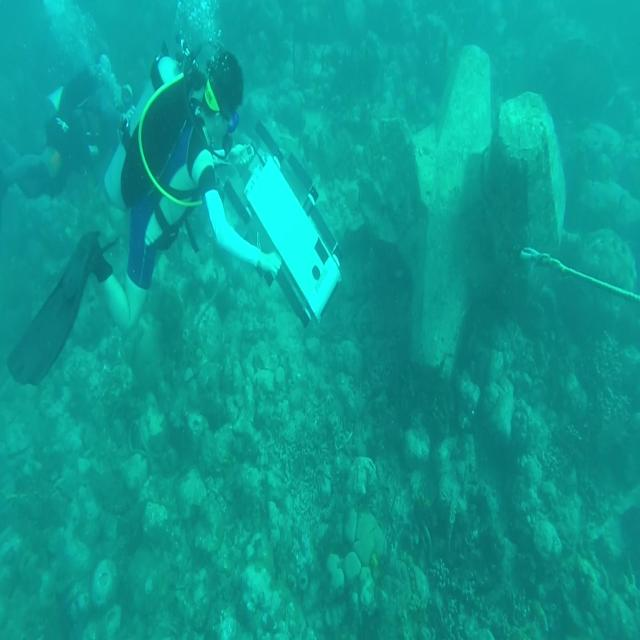human: (7, 41, 285, 386)
